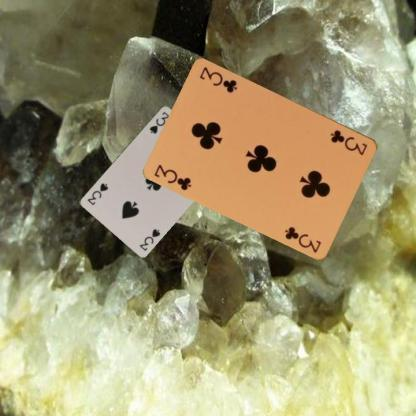3c: (152, 161, 193, 192), (328, 127, 369, 156)
3s: (136, 226, 162, 252), (147, 108, 171, 134)
